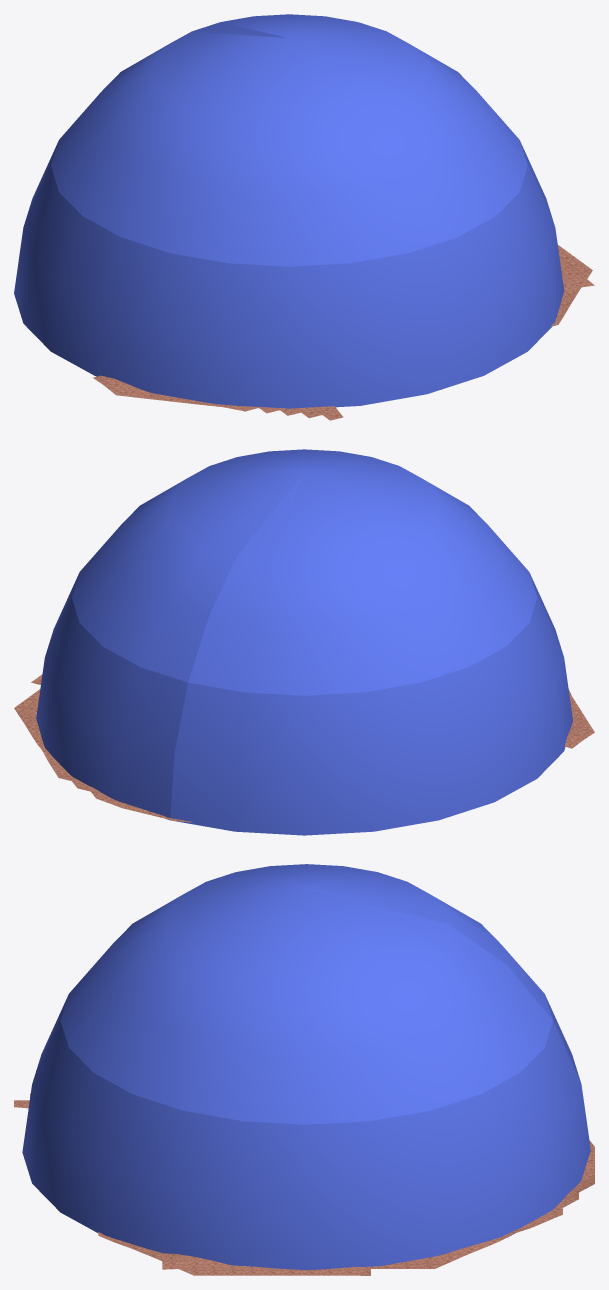
Rendered from stage.glb.
The picture shows the model from 3 angles, top to bottom: view 1: azimuth 30°, elevation 25°; view 2: azimuth 150°, elevation 25°; view 3: azimuth 270°, elevation 25°; orthographic projection. The views are drawn at different scales.
Visible parts, largest first — view 1: KORE_export_RRXX_Canyon_Final_mesh; view 2: KORE_export_RRXX_Canyon_Final_mesh; view 3: KORE_export_RRXX_Canyon_Final_mesh.
Part boxes in pixels (x1,y1,x2,y2): KORE_export_RRXX_Canyon_Final_mesh: (14, 14, 594, 420); KORE_export_RRXX_Canyon_Final_mesh: (14, 449, 594, 835); KORE_export_RRXX_Canyon_Final_mesh: (14, 864, 594, 1275).
Bounding box in the file's own units: 38.28 × 19.22 × 38.22.
Materials: 65 (63 with a texture image).
